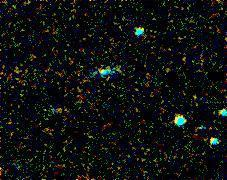star: (88, 55, 118, 85)
